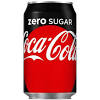coca_cola_can: (24, 1, 78, 99)
